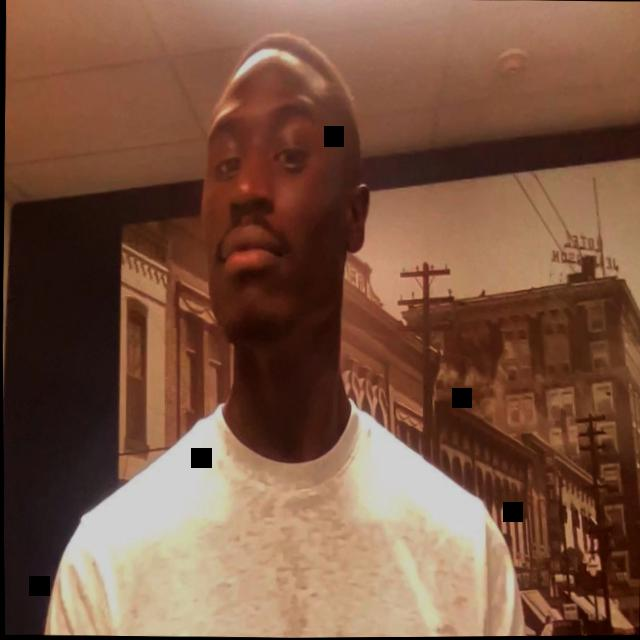NO-Mask: (195, 60, 371, 344)
